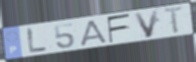5: (53, 22, 76, 49)
A: (79, 19, 109, 47)
F: (106, 13, 132, 45)
L: (26, 27, 49, 54)
T: (162, 5, 187, 36)
V: (132, 8, 160, 39)
